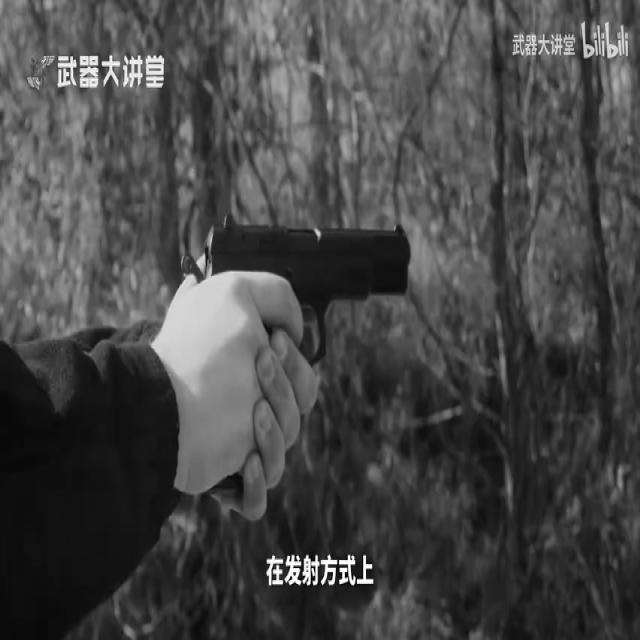Hand-Gun: (174, 170, 458, 439)
